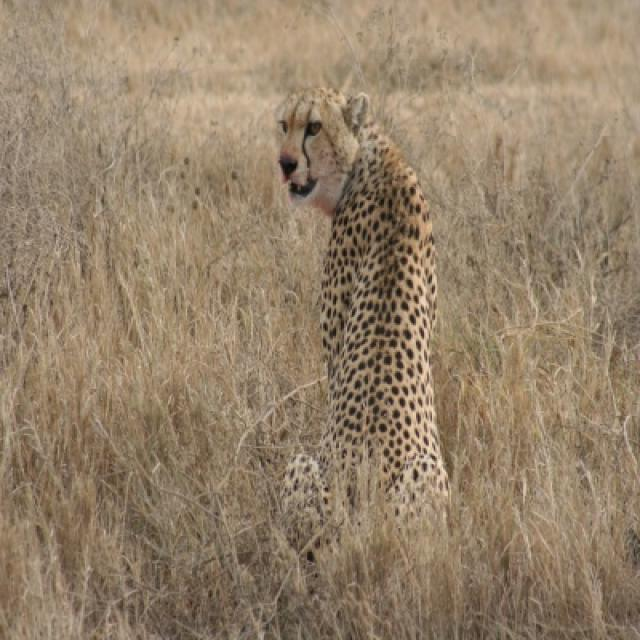Cheetah: (278, 90, 448, 560)
